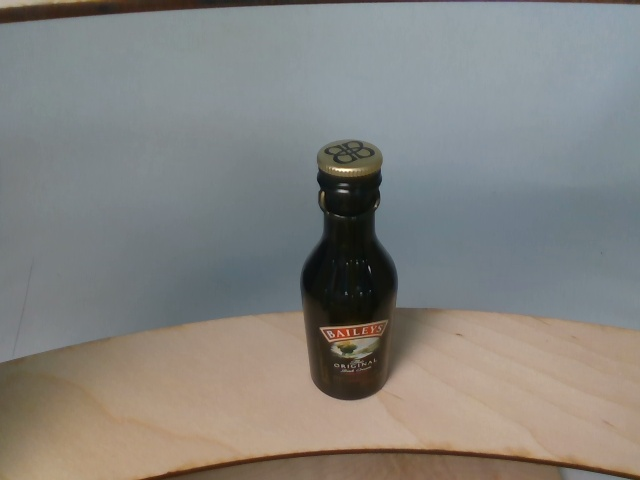coke: (301, 140, 399, 401)
